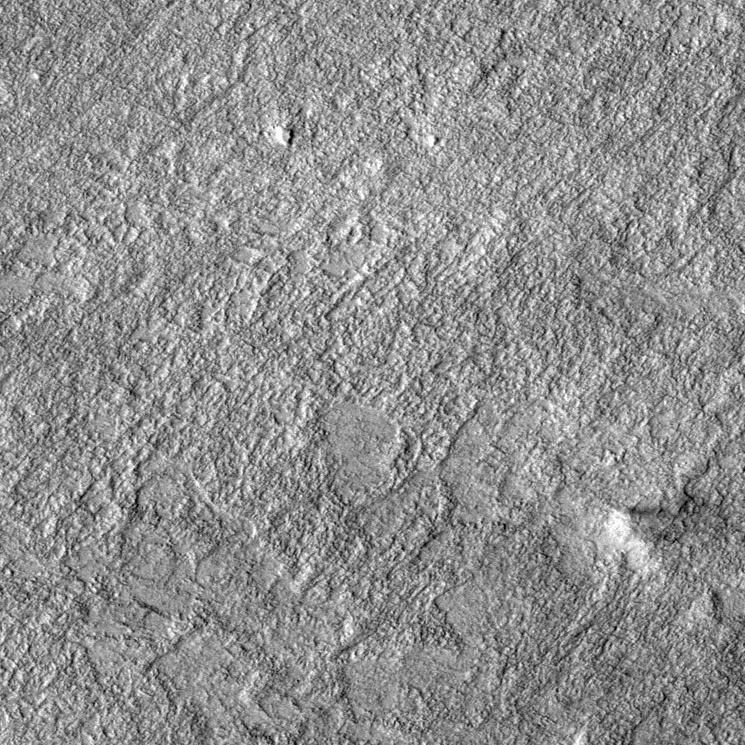dust_devil: (602, 499, 699, 583)
